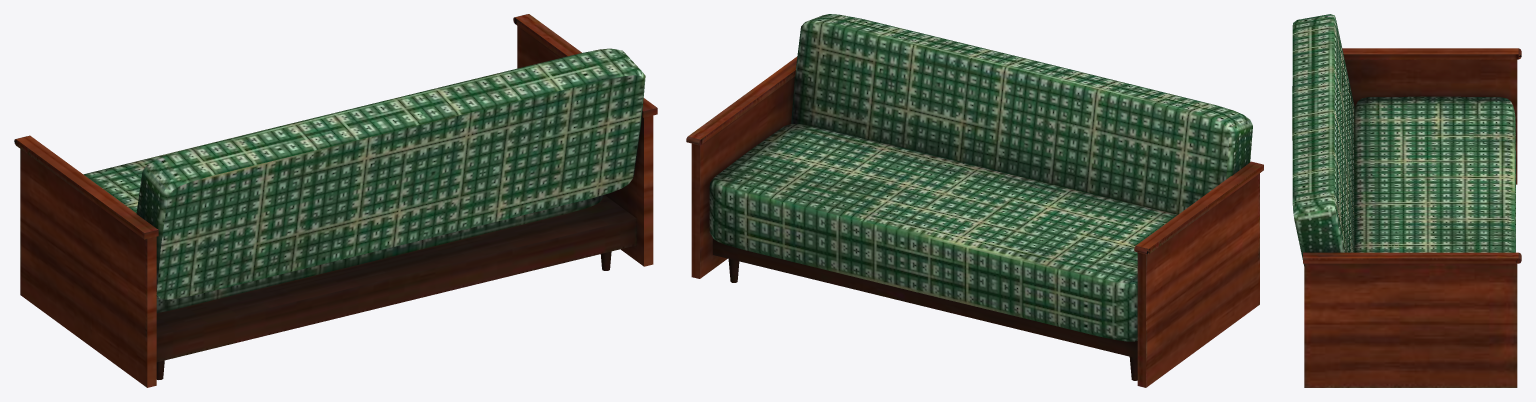
File: sofa_book_check_lod1_web.glb
3 views of the same model, side by side, from view 1: azimuth 30°, elevation 25°; view 2: azimuth 150°, elevation 25°; view 3: azimuth 270°, elevation 25° (orthographic). The views are drawn at different scales.
Visible parts, largest first — view 1: SofaBookCheck_Body; view 2: SofaBookCheck_Body; view 3: SofaBookCheck_Body.
Boxes of the visible parts, x1,y1,x2,y2 form: SofaBookCheck_Body: [14, 14, 657, 387]; SofaBookCheck_Body: [686, 14, 1263, 387]; SofaBookCheck_Body: [1292, 14, 1521, 387].
Size of the model in its own units: 2.01 by 0.8338 by 0.9251.
Materials: 1 (1 with a texture image).
